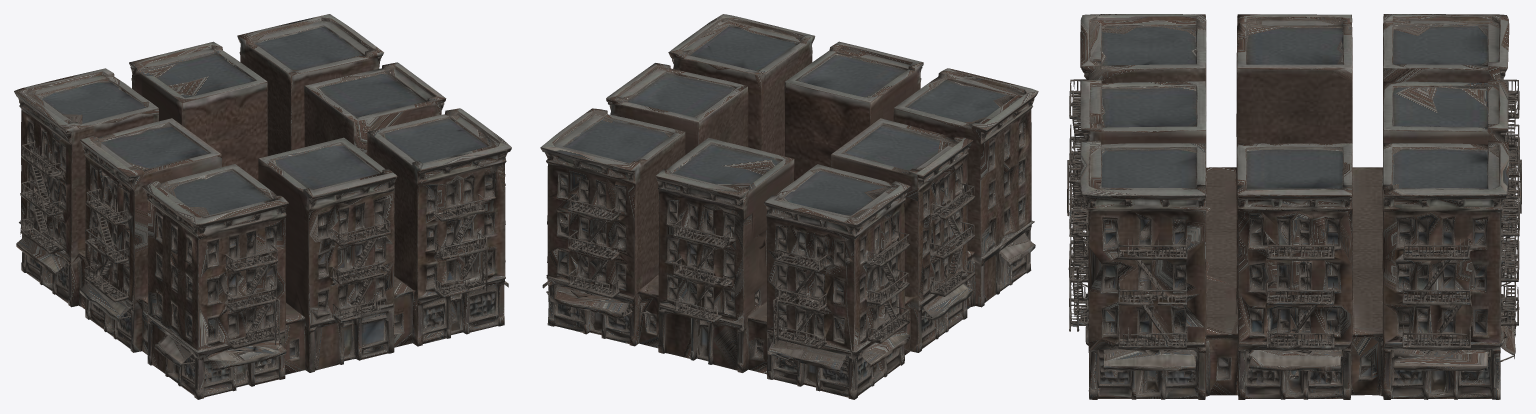
File: corner_block_b.glb
3 renders of one model, left to right at view 1: azimuth 30°, elevation 25°; view 2: azimuth 150°, elevation 25°; view 3: azimuth 270°, elevation 25°, orthographic. The views are drawn at different scales.
Size of the model in its own units: 32.93 by 17 by 33.29.
1 material, 1 textured.
